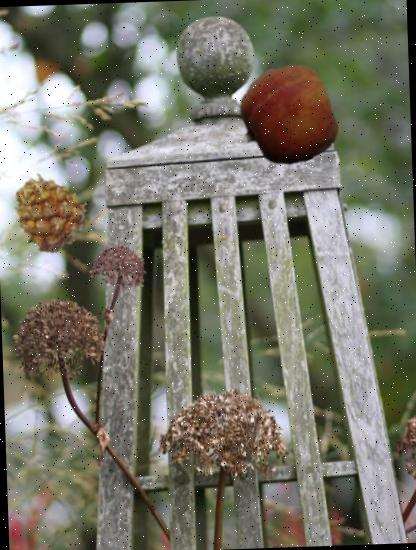Peach: (236, 64, 339, 168)
Pineapple: (8, 173, 90, 254)
